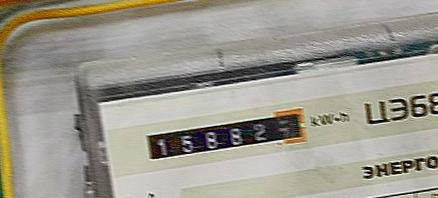1: (153, 137, 168, 158)
2: (251, 123, 266, 143)
5: (178, 134, 193, 155)
7: (277, 126, 290, 142)
8: (203, 130, 217, 152), (228, 127, 242, 149)
screen: (136, 102, 316, 170)
